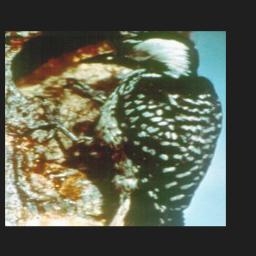Woodpecker: (18, 32, 222, 226)
